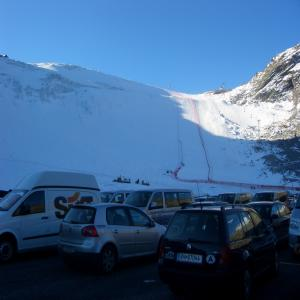Vehicle-registration-plate: (179, 253, 203, 265)
